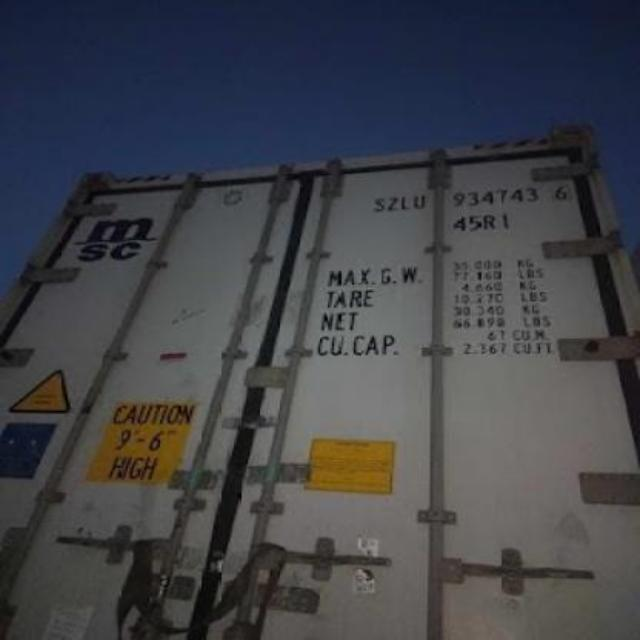3: (526, 178, 542, 208), (464, 188, 480, 210)
4: (508, 183, 522, 207), (482, 184, 494, 208)
6: (552, 181, 574, 207)
7: (494, 182, 510, 210)
9: (446, 184, 464, 210)
L: (396, 188, 412, 216)
S: (372, 192, 388, 216)
U: (412, 190, 428, 213)
Z: (386, 192, 398, 214)
